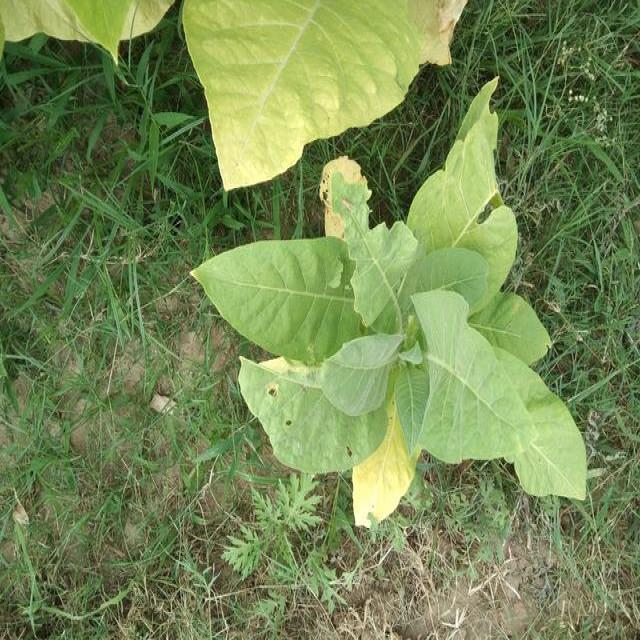crop: (192, 119, 596, 532)
